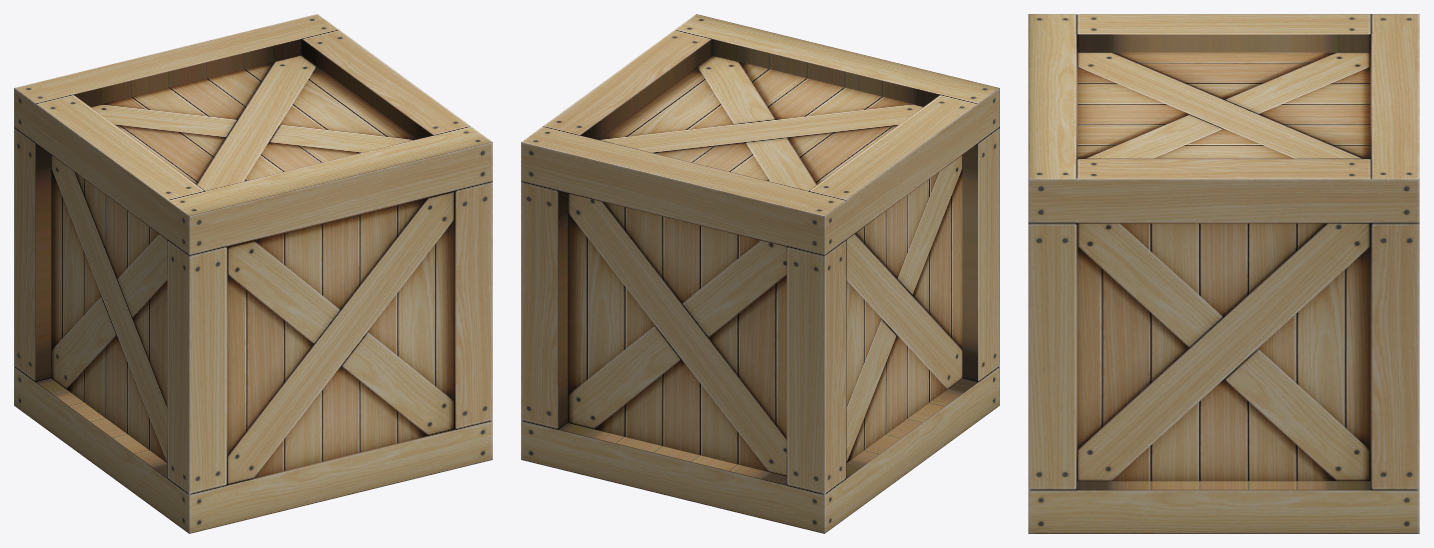
File: CAJA22.fbx
The picture shows the model from 3 angles, left to right: view 1: azimuth 30°, elevation 25°; view 2: azimuth 150°, elevation 25°; view 3: azimuth 270°, elevation 25°; orthographic projection. The views are drawn at different scales.
Visible parts, largest first — view 1: Cube; view 2: Cube; view 3: Cube.
Boxes of the visible parts, x1=… form: Cube: x1=14, y1=14, x2=492, y2=533; Cube: x1=521, y1=14, x2=999, y2=533; Cube: x1=1028, y1=14, x2=1419, y2=533.
Bounding box in the file's own units: 200 × 200 × 200.
1 material, 1 textured.
